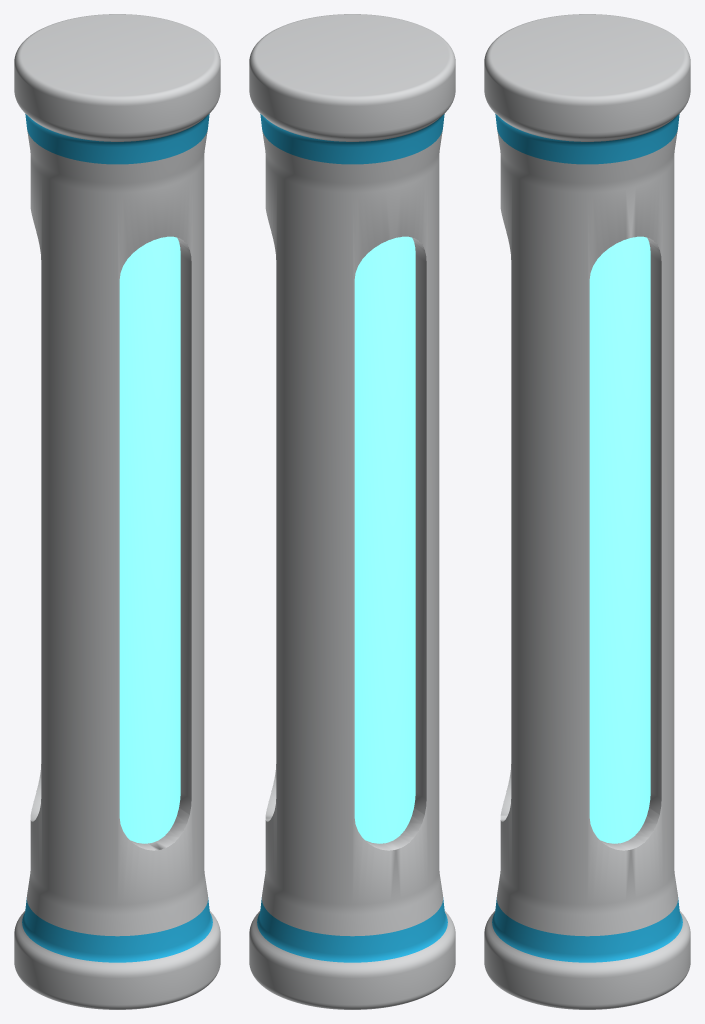
File: Pillar_D01_AquariumCore.fbx
The picture shows the model from 3 angles, left to right: view 1: azimuth 30°, elevation 25°; view 2: azimuth 150°, elevation 25°; view 3: azimuth 270°, elevation 25°; orthographic projection.
Visible parts, largest first — view 1: Pillar_D01_AquariumCore; view 2: Pillar_D01_AquariumCore; view 3: Pillar_D01_AquariumCore.
Boxes of the visible parts, left/top/right/bottom form: Pillar_D01_AquariumCore: left=14, top=14, right=220, bottom=1009; Pillar_D01_AquariumCore: left=249, top=14, right=455, bottom=1009; Pillar_D01_AquariumCore: left=484, top=14, right=690, bottom=1009.
Bounding box in the file's own units: 0.82 × 4 × 0.82.
